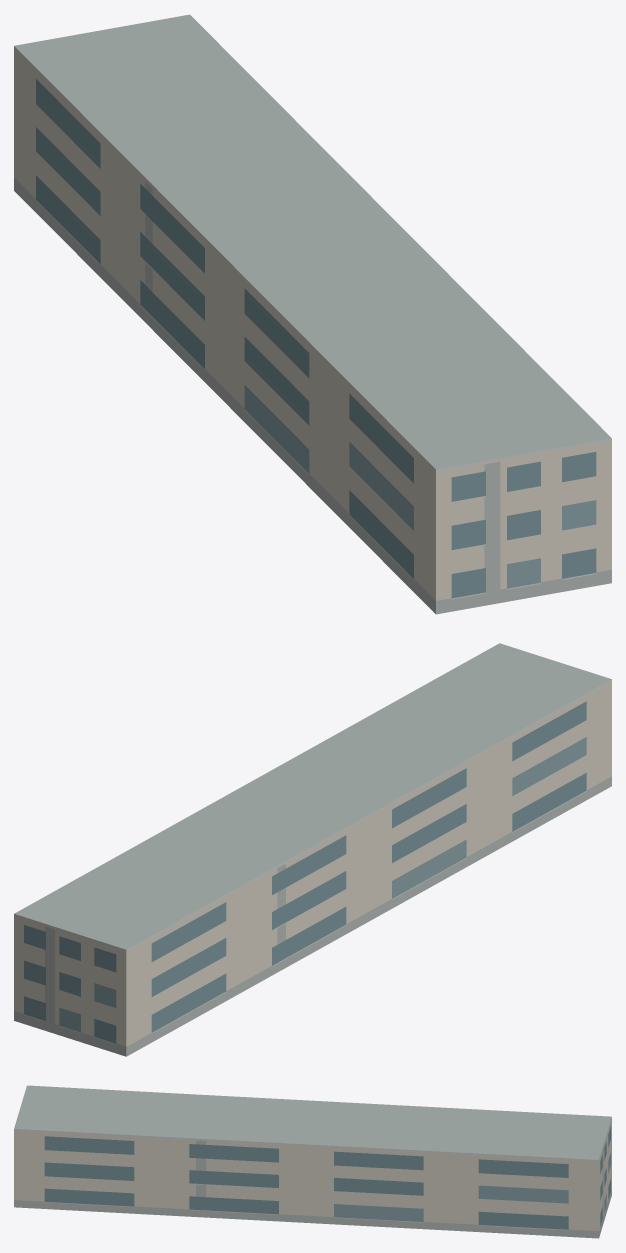
File: residential-dba2059f-bfcf-481e-807d-8b55209993c5.glb
The picture shows the model from 3 angles, top to bottom: view 1: azimuth 30°, elevation 25°; view 2: azimuth 150°, elevation 25°; view 3: azimuth 270°, elevation 25°; orthographic projection. The views are drawn at different scales.
Parts seen in each view (by area): view 1: residential-dba2059f-bfcf-481e-807d-8b55209993c5.tmp; view 2: residential-dba2059f-bfcf-481e-807d-8b55209993c5.tmp; view 3: residential-dba2059f-bfcf-481e-807d-8b55209993c5.tmp.
Part boxes in pixels (x1=…): residential-dba2059f-bfcf-481e-807d-8b55209993c5.tmp: x1=14, y1=14, x2=611, y2=614; residential-dba2059f-bfcf-481e-807d-8b55209993c5.tmp: x1=14, y1=643, x2=611, y2=1056; residential-dba2059f-bfcf-481e-807d-8b55209993c5.tmp: x1=14, y1=1085, x2=611, y2=1238.
Size of the model in its own units: 20.36 by 10 by 69.01.
